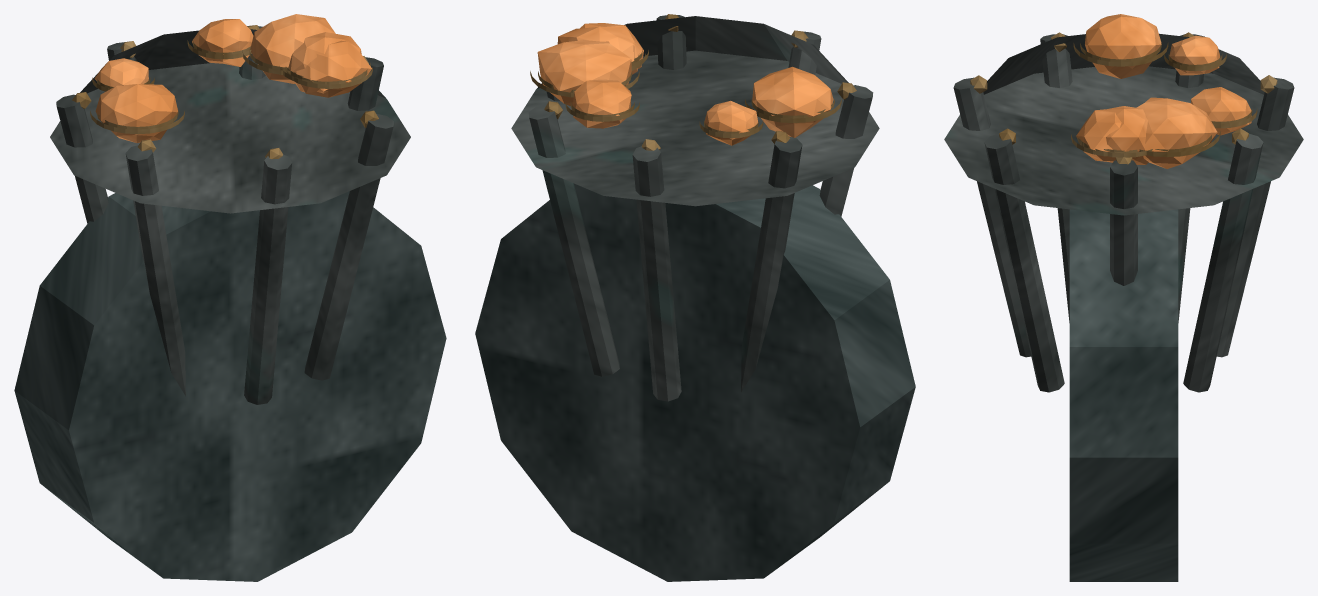
Rendered from 0539_brazier_14.glb.
The picture shows the model from 3 angles, left to right: view 1: azimuth 30°, elevation 25°; view 2: azimuth 150°, elevation 25°; view 3: azimuth 270°, elevation 25°; orthographic projection. The views are drawn at different scales.
Parts seen in each view (by area): view 1: stone_dark, iron, amber, brass; view 2: stone_dark, iron, amber, brass; view 3: iron, stone_dark, amber, brass.
Boxes of the visible parts, bbox=[...] form: stone_dark: bbox=[14, 191, 446, 581]; iron: bbox=[50, 26, 410, 404]; amber: bbox=[94, 14, 371, 142]; brass: bbox=[72, 25, 378, 159]; stone_dark: bbox=[475, 183, 915, 581]; iron: bbox=[511, 15, 879, 401]; amber: bbox=[537, 23, 833, 145]; brass: bbox=[530, 14, 856, 150]; iron: bbox=[944, 33, 1303, 392]; stone_dark: bbox=[1069, 209, 1178, 581]; amber: bbox=[1076, 14, 1251, 168]; brass: bbox=[970, 32, 1277, 164].
Bounding box in the file's own units: 1.4 × 1.78 × 1.16.
Materials: 4 (4 with a texture image).
